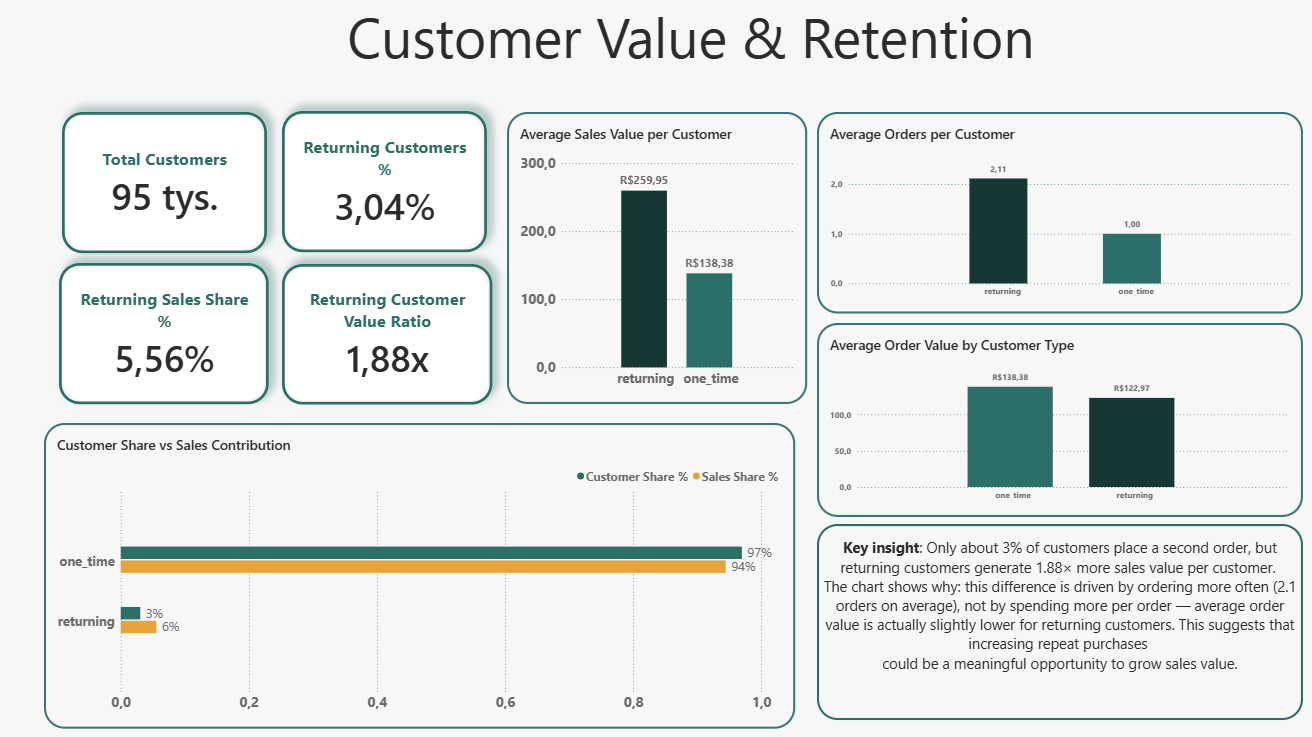

The page's visual inventory and layout, read from the dashboard file:
{"tool":"powerbi","page":{"name":"Customer Value","canvas":[1920,1080],"ordinal":1},"visuals":[{"type":"cardVisual","fields":{"Data":["analysis vw_customer_value.Customer Count"]},"box":[93.1,164.2,298.6,206],"z":0},{"type":"cardVisual","fields":{"Data":["analysis vw_customer_value.Returning Sales Share %"]},"box":[89,384.5,306.1,206],"z":1000},{"type":"cardVisual","fields":{"Data":["analysis vw_customer_value.Returning Customers %"]},"box":[414.7,162.9,298.6,206],"z":2000},{"type":"cardVisual","fields":{"Data":["analysis vw_customer_value.Returning Customer Value Ratio"]},"box":[414.7,385.9,306.5,205.3],"z":3000},{"type":"clusteredBarChart","title":"Customer Share vs Sales Contribution","fields":{"Category":["analysis vw_customer_value.customer_type"],"Y":["analysis vw_customer_value.Customer Share %","analysis vw_customer_value.Sales Share %"]},"box":[67.1,618.6,1096.2,446.1],"z":4000},{"type":"clusteredColumnChart","title":"Average Sales Value per Customer","fields":{"Category":["analysis vw_customer_value.customer_type"],"Y":["analysis vw_customer_value.Avg Value per Customer"]},"box":[743.1,165.6,437.9,425.6],"z":5000},{"type":"textbox","box":[118.8,0,1785,116.1],"z":6000},{"type":"textbox","box":[1194.7,766.4,708.9,286],"z":7000},{"type":"clusteredColumnChart","title":"Average Orders per Customer","fields":{"Category":["analysis vw_customer_value.customer_type"],"Y":["analysis vw_customer_value.Avg Orders per Customer"]},"box":[1194.7,165.6,708.9,294.2],"z":8000},{"type":"clusteredColumnChart","title":"Average Order Value by Customer Type","fields":{"Category":["analysis vw_customer_value.customer_type"],"Y":["analysis vw_customer_value.Customer Avg Order Value"]},"box":[1194.7,472.1,708.9,283.3],"z":9000}]}

Visuals, with their boxes in screenshot pixels (x1, y1, x2, y2), scaled from the page's 1920x1080 canvas onto the 1312x737 screenshot:
cardVisual - analysis vw_customer_value.Customer Count: rect(64, 112, 268, 253)
cardVisual - analysis vw_customer_value.Returning Sales Share %: rect(61, 262, 270, 403)
cardVisual - analysis vw_customer_value.Returning Customers %: rect(283, 111, 487, 252)
cardVisual - analysis vw_customer_value.Returning Customer Value Ratio: rect(283, 263, 493, 403)
"Customer Share vs Sales Contribution" clusteredBarChart: rect(46, 422, 795, 727)
"Average Sales Value per Customer" clusteredColumnChart: rect(508, 113, 807, 403)
textbox: rect(81, 0, 1301, 79)
textbox: rect(816, 523, 1301, 718)
"Average Orders per Customer" clusteredColumnChart: rect(816, 113, 1301, 314)
"Average Order Value by Customer Type" clusteredColumnChart: rect(816, 322, 1301, 515)
